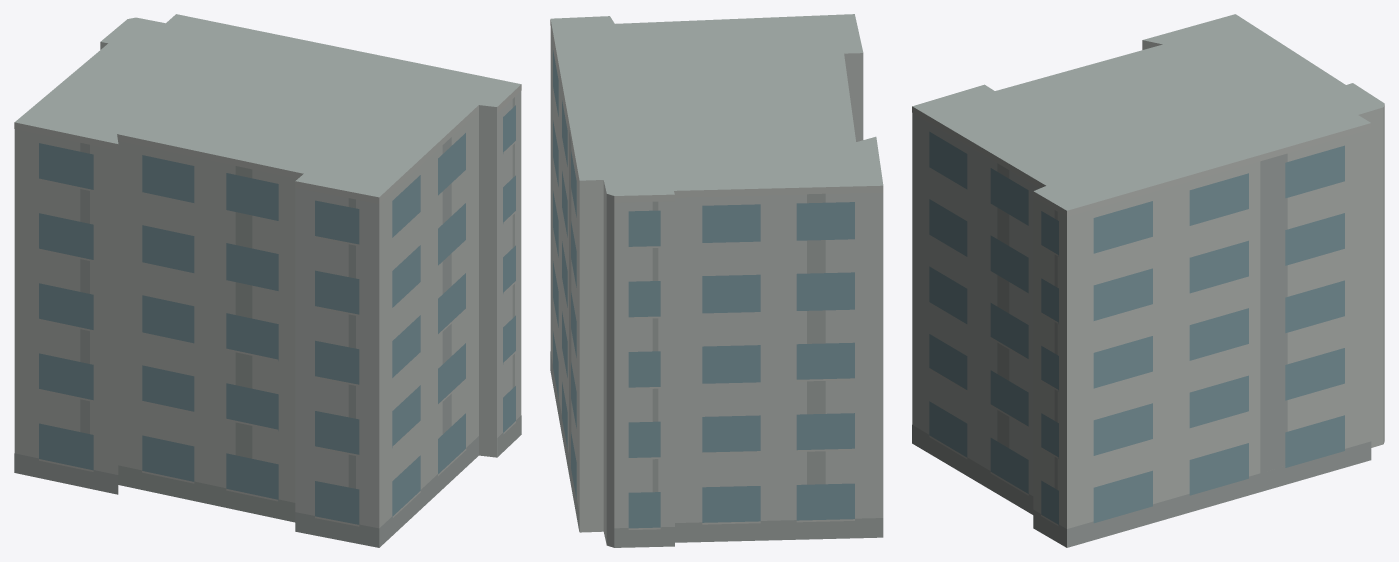
Rendered from survey-upis-32888341.glb.
3 views of the same model, side by side, from view 1: azimuth 30°, elevation 25°; view 2: azimuth 150°, elevation 25°; view 3: azimuth 270°, elevation 25° (orthographic). The views are drawn at different scales.
Parts seen in each view (by area): view 1: survey-upis-32888341.tmp; view 2: survey-upis-32888341.tmp; view 3: survey-upis-32888341.tmp.
Part boxes in pixels (x1,y1,x2,y2): survey-upis-32888341.tmp: [14, 14, 521, 547]; survey-upis-32888341.tmp: [550, 14, 883, 547]; survey-upis-32888341.tmp: [912, 14, 1384, 547].
Bounding box in the file's own units: 16.28 × 13 × 16.53.
